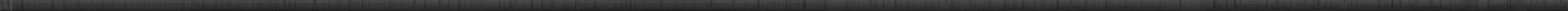Moan: (565, 0, 567, 11)
